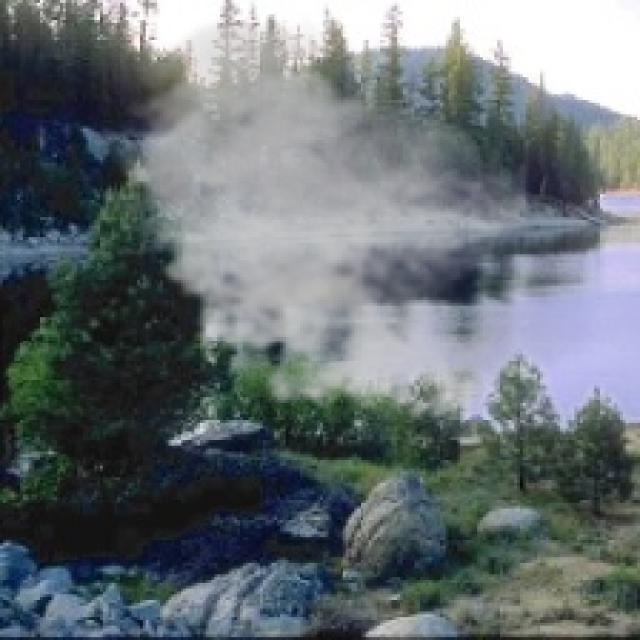Smoke: (106, 12, 532, 434)
